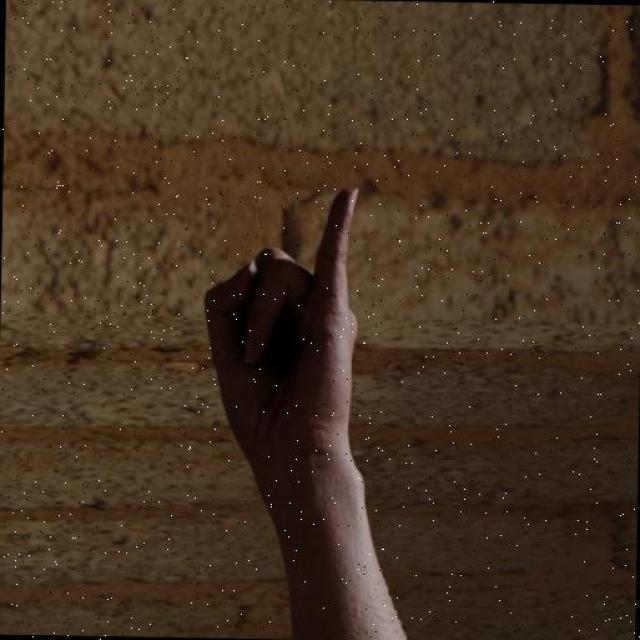I: (198, 182, 362, 468)
